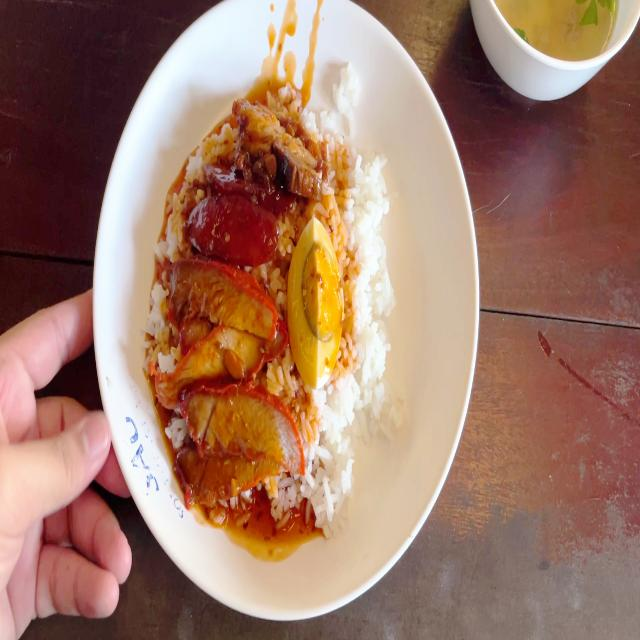boiled_egg: (290, 218, 343, 382)
chainese_sausage: (190, 162, 286, 262)
crispy_pork: (241, 96, 325, 188)
red_pork: (168, 260, 288, 492)
red_pork_and_crispy_pork: (167, 84, 398, 524)
rice: (349, 151, 394, 434), (303, 389, 356, 527)
